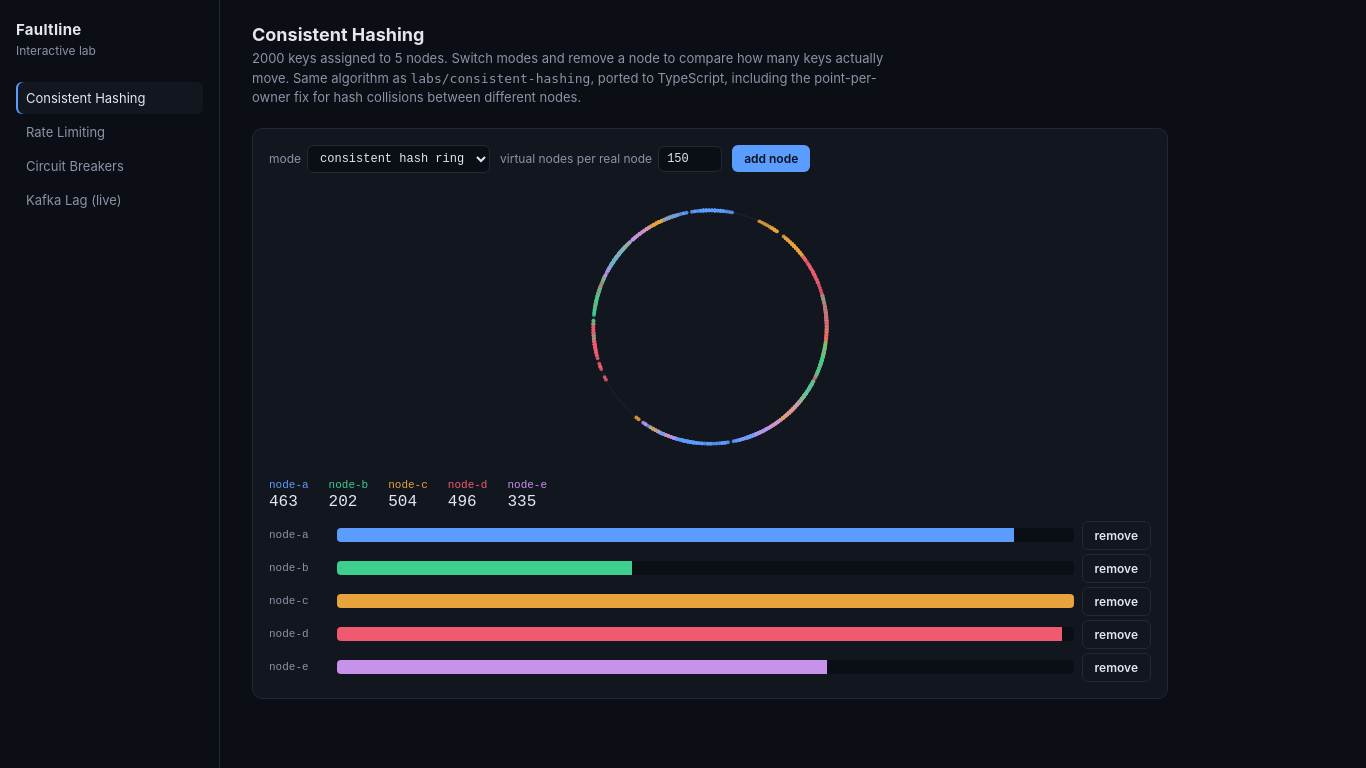
Test: ConsistentHashingViz › adding a node increases the node count shown
Click the button "add node": (771,158) left=732, top=145, right=810, bottom=172
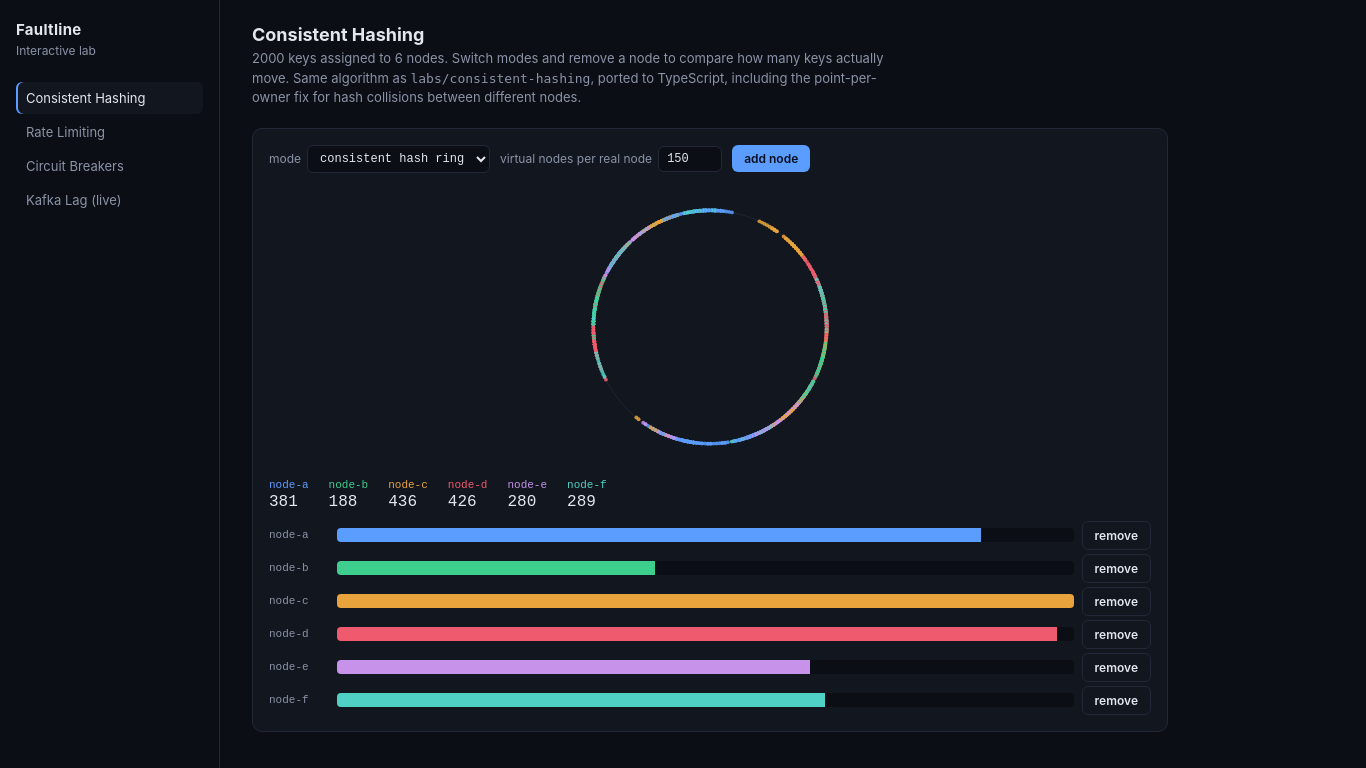
Expected: the number of buttons "remove" is 6, left=1082, top=520, right=1151, bottom=550; left=1082, top=554, right=1151, bottom=582; left=1082, top=586, right=1151, bottom=616; left=1082, top=620, right=1151, bottom=648; left=1082, top=652, right=1151, bottom=682; left=1082, top=686, right=1151, bottom=714
